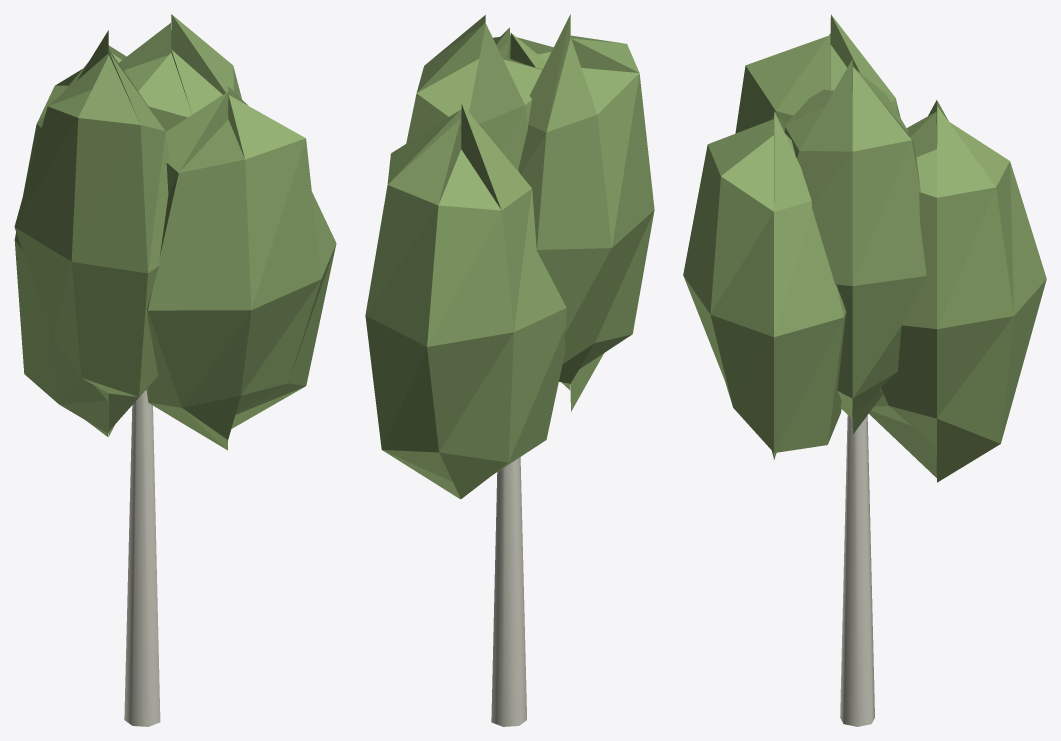
Rendered from birch_tree_variant_03_lod1.glb.
3 views of the same model, side by side, from view 1: azimuth 30°, elevation 25°; view 2: azimuth 150°, elevation 25°; view 3: azimuth 270°, elevation 25° (orthographic). The views are drawn at different scales.
Visible parts, largest first — view 1: static_leaf_light, trunk; view 2: static_leaf_light, trunk; view 3: static_leaf_light, trunk.
Part boxes in pixels (x1,y1,x2,y2): static_leaf_light: [14, 14, 336, 450]; trunk: [124, 390, 160, 726]; static_leaf_light: [365, 14, 654, 499]; trunk: [491, 457, 526, 726]; static_leaf_light: [683, 14, 1046, 482]; trunk: [840, 415, 874, 726].
Size of the model in its own units: 3.29 by 8.41 by 4.06.
